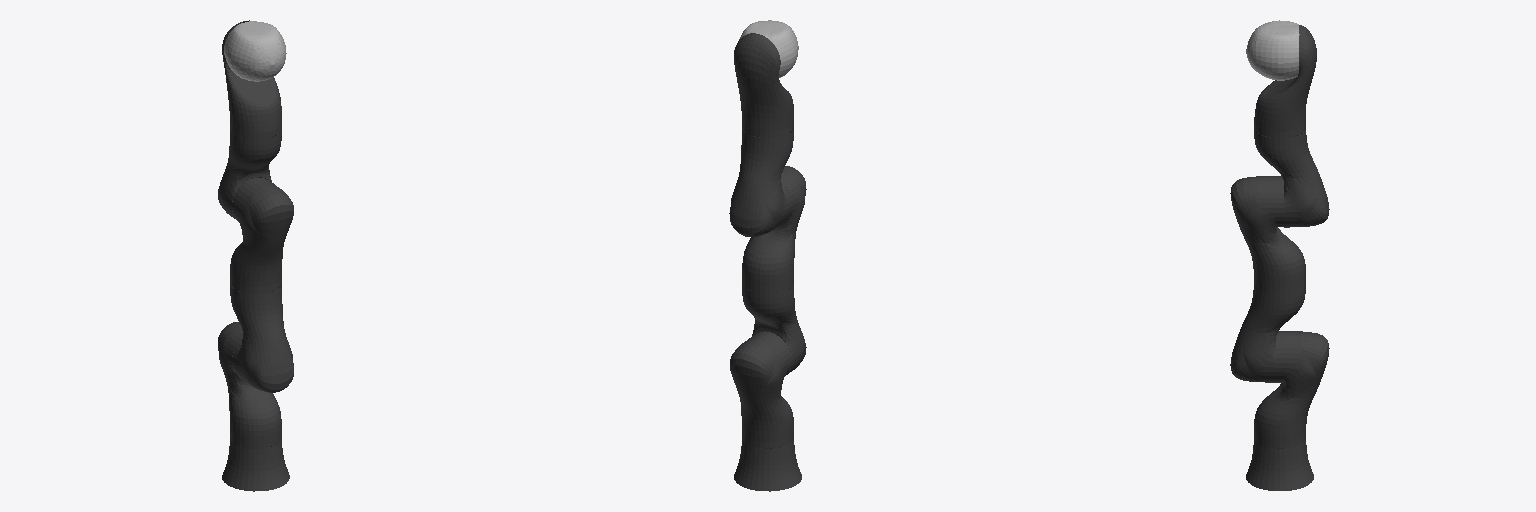
robot.urdf — kuka_lwr_4plus:
<robot name="kuka_lwr_4plus" xmlns:controller="http://playerstage.sourceforge.net/gazebo/xmlschema/#controller" xmlns:interface="http://playerstage.sourceforge.net/gazebo/xmlschema/#interface" xmlns:sensor="http://playerstage.sourceforge.net/gazebo/xmlschema/#sensor" xmlns:xacro="http://www.ros.org/wiki/xacro">
    <material name="DarkGrey">
        <color rgba="0.3 0.3 0.3 1.0" />
    </material>
    <material name="Red">
        <color rgba="0.3 0.3 0.3 1.0" />
    </material>
    <material name="Black">
        <color rgba="0 0 0 1.0" />
    </material>
    <material name="Orange">
        <color rgba="1.0 0.487 0 1.0" />
    </material>
    <material name="Silver">
        <color rgba="1.0 1.0 1.0 1.0" />
    </material>
    <material name="Grey">
        <color rgba="0.7 0.7 0.7 1.0" />
    </material>
    <material name="Blue">
        <color rgba="0.0 0.0 0.8 1.0" />
    </material>
    <material name="HandGray">
        <color rgba="0.953 0.996 0.694 1.0" />
    </material>
    <material name="SickBlue">
        <color rgba="0.3058 0.5921 0.7294 1.0" />
    </material>
    <link name="world" />
    <joint name="arm_world_joint" type="fixed">
        <origin rpy="0 0 0" xyz="0 0 0.01" />
        <parent link="world" />
        <child link="lwr_arm_base_link" />
    </joint>
    <link name="lwr_arm_base_link">
        <inertial>
            <mass value="1.2" />
            <origin rpy="0 0 0" xyz="0 0 0.055" />
            <inertia ixx="0.00229" ixy="0" ixz="0" iyy="0.00216" iyz="0" izz="0.00229" />
        </inertial>
        <visual>
            <origin rpy="0 0 0" xyz="0 0 0" />
            <geometry>
                <mesh filename="model://kuka_lwr_4plus/meshes/arm_base.dae" scale="100 100 100" />
            </geometry>
            <material name="Red" />
        </visual>
        <collision>
            <origin rpy="0 0 0" xyz="0 0 0.01" />
            <geometry>
                <mesh filename="model://kuka_lwr_4plus/meshes/convex/arm_base_convex.stl" scale="0.9 0.9 0.9" />
            </geometry>
        </collision>
    </link>
    <joint name="lwr_arm_0_joint" type="revolute">
        <origin rpy="0 0 0" xyz="0 0 0.11" />
        <axis xyz="0 0 1" />
        <limit effort="204" lower="-2.96705972839" upper="2.96705972839" velocity="1.91986217719" />
        <safety_controller k_position="100" k_velocity="2" soft_lower_limit="-2.93215314335" soft_upper_limit="2.93215314335" />
        <dynamics damping="5.0" friction="15.0"/>
        <parent link="lwr_arm_base_link" />
        <child link="lwr_arm_1_link" />
    </joint>
    <link name="lwr_arm_1_link">
        <inertial>
            <mass value="2.0" />
            <origin rpy="0 0 0" xyz="0 0 0.130" />
            <inertia ixx="0.0136666666667" ixy="0" ixz="0" iyy="0.0118666666667" iyz="0" izz="0.003" />
        </inertial>
        <visual>
            <origin rpy="0 0 3.14159265359" xyz="0 0 0" />
            <geometry>
                <mesh filename="model://kuka_lwr_4plus/meshes/arm_segment_a.dae" scale="100 100 100" />
            </geometry>
            <material name="Red" />
        </visual>
        <collision>
            <origin rpy="0 0 3.14159265359" xyz="0 0 0" />
            <geometry>
                <mesh filename="model://kuka_lwr_4plus/meshes/convex/arm_segment_a_convex.stl" scale="1.0 1.0 1.0" />
            </geometry>
        </collision>
    </link>
    <joint name="lwr_arm_1_joint" type="revolute">
        <origin rpy="0 0 0" xyz="0 0 0.20" />
        <axis xyz="0 -1 0" />
        <limit effort="306" lower="-2.09439510239" upper="2.09439510239" velocity="1.91986217719" />
        <safety_controller k_position="100" k_velocity="2" soft_lower_limit="-2.05948851735" soft_upper_limit="2.05948851735" />
        <dynamics damping="5.0" friction="15.0"/>
        <parent link="lwr_arm_1_link" />
        <child link="lwr_arm_2_link" />
    </joint>
    <link name="lwr_arm_2_link">
        <inertial>
            <mass value="2.0" />
            <origin rpy="0 0 0" xyz="0 -0.06 0.07" />
            <inertia ixx="0.0136666666667" ixy="0" ixz="0" iyy="0.0118666666667" iyz="0" izz="0.003" />
        </inertial>
        <visual>
            <origin rpy="3.14159265359 0 3.14159265359" xyz="0 0 0.2" />
            <geometry>
                <mesh filename="model://kuka_lwr_4plus/meshes/arm_segment_b.dae" scale="100 100 100" />
            </geometry>
            <material name="Red" />
        </visual>
        <collision>
            <origin rpy="3.14159265359 0 3.14159265359" xyz="0 0 0.2" />
            <geometry>
                <mesh filename="model://kuka_lwr_4plus/meshes/convex/arm_segment_b_convex.stl" scale="1.0 1.0 1.0" />
            </geometry>
        </collision>
    </link>
    <joint name="lwr_arm_2_joint" type="revolute">
        <origin rpy="0 0 0" xyz="0 0 0.20" />
        <axis xyz="0 0 1" />
        <limit effort="204" lower="-2.96705972839" upper="2.96705972839" velocity="2.26892802759" />
        <safety_controller k_position="100" k_velocity="2" soft_lower_limit="-2.93215314335" soft_upper_limit="2.93215314335" />
        <dynamics damping="3.0" friction="15.0"/>
        <parent link="lwr_arm_2_link" />
        <child link="lwr_arm_3_link" />
    </joint>
    <link name="lwr_arm_3_link">
        <inertial>
            <mass value="2.0" />
            <origin rpy="0 0 0" xyz="0 -0.06 0.130" />
            <inertia ixx="0.0136666666667" ixy="0" ixz="0" iyy="0.0118666666667" iyz="0" izz="0.003" />
        </inertial>
        <visual>
            <origin rpy="0 0 0" xyz="0 0 0" />
            <geometry>
                <mesh filename="model://kuka_lwr_4plus/meshes/arm_segment_a.dae" scale="100 100 100" />
            </geometry>
            <material name="Red" />
        </visual>
        <collision>
            <origin rpy="0 0 0" xyz="0 0 0" />
            <geometry>
                <mesh filename="model://kuka_lwr_4plus/meshes/convex/arm_segment_a_convex.stl" scale="1.0 1.0 1.0" />
            </geometry>
        </collision>
    </link>
    <joint name="lwr_arm_3_joint" type="revolute">
        <origin rpy="0 0 0" xyz="0 0 0.20" />
        <axis xyz="0 1 0" />
        <limit effort="306" lower="-2.09439510239" upper="2.09439510239" velocity="2.26892802759" />
        <safety_controller k_position="100" k_velocity="2" soft_lower_limit="-2.05948851735" soft_upper_limit="2.05948851735" />
        <dynamics damping="3.0" friction="15.0"/>
        <parent link="lwr_arm_3_link" />
        <child link="lwr_arm_4_link" />
    </joint>
    <link name="lwr_arm_4_link">
        <inertial>
            <mass value="2.0" />
            <origin rpy="0 0 0" xyz="0 0.06 0.07" />
            <inertia ixx="0.0136666666667" ixy="0" ixz="0" iyy="0.0118666666667" iyz="0" izz="0.003" />
        </inertial>
        <visual>
            <origin rpy="0 3.14159265359 3.14159265359" xyz="0 0 0.2" />
            <geometry>
                <mesh filename="model://kuka_lwr_4plus/meshes/arm_segment_b.dae" scale="100 100 100" />
            </geometry>
            <material name="Red" />
        </visual>
        <collision>
            <origin rpy="0 3.14159265359 3.14159265359" xyz="0 0 0.2" />
            <geometry>
                <mesh filename="model://kuka_lwr_4plus/meshes/convex/arm_segment_b_convex.stl" scale="1.0 1.0 1.0" />
            </geometry>
        </collision>
    </link>
    <joint name="lwr_arm_4_joint" type="revolute">
        <origin rpy="0 0 0" xyz="0 0 0.20" />
        <axis xyz="0 0 1" />
        <limit effort="204" lower="-2.96705972839" upper="2.96705972839" velocity="2.26892802759" />
        <safety_controller k_position="100" k_velocity="2" soft_lower_limit="-2.93215314335" soft_upper_limit="2.93215314335" />
        <dynamics damping="1.0" friction="15.0"/>
        <parent link="lwr_arm_4_link" />
        <child link="lwr_arm_5_link" />
    </joint>
    <link name="lwr_arm_5_link">
        <inertial>
            <mass value="2.0" />
            <origin rpy="0 0 0" xyz="0 0 0.124" />
            <inertia ixx="0.0126506666667" ixy="0" ixz="0" iyy="0.0108506666667" iyz="0" izz="0.003" />
        </inertial>
        <visual>
            <origin rpy="0 0 3.14159265359" xyz="0 0 0" />
            <geometry name="lwr_arm_5_geom">
                <mesh filename="model://kuka_lwr_4plus/meshes/arm_segment_last.dae" scale="100 100 100" />
            </geometry>
            <material name="Red" />
        </visual>
        <collision>
            <origin rpy="0 0 3.14159265359" xyz="0 0 0" />
            <geometry>
                <mesh filename="model://kuka_lwr_4plus/meshes/convex/arm_segment_last_convex.stl" scale="1.0 1.0 1.0" />
            </geometry>
        </collision>
    </link>
    <joint name="lwr_arm_5_joint" type="revolute">
        <origin rpy="0 0 0" xyz="0 0 0.19" />
        <axis xyz="0 -1 0" />
        <limit effort="306" lower="-2.09439510239" upper="2.09439510239" velocity="3.14159265359" />
        <safety_controller k_position="100" k_velocity="2" soft_lower_limit="-2.05948851735" soft_upper_limit="2.05948851735" />
        <dynamics damping="1.0" friction="15.0"/>
        <parent link="lwr_arm_5_link" />
        <child link="lwr_arm_6_link" />
    </joint>
    <link name="lwr_arm_6_link">
        <inertial>
            <mass value="1.0" />
            <origin rpy="0 0 0" xyz="0 0 0.0" />
            <inertia ixx="0.00260416666667" ixy="0" ixz="0" iyy="0.00260416666667" iyz="0" izz="0.00260416666667" />
        </inertial>
        <visual>
            <origin rpy="0 0 3.14159265359" xyz="0 0 0" />
            <geometry>
                <mesh filename="model://kuka_lwr_4plus/meshes/arm_wrist.dae" scale="100 100 100" />
            </geometry>
            <material name="Grey" />
        </visual>
        <collision>
            <origin rpy="0 0 3.14159265359" xyz="0 0 0" />
            <geometry>
                <mesh filename="model://kuka_lwr_4plus/meshes/convex/arm_wrist_convex.stl" scale="1.0 1.0 1.0" />
            </geometry>
        </collision>
    </link>
    <origin xyz="0 0 0" rpy="0 0 0" />
</robot>

--- Render facts (derived) ---
Views: 3 orthographic renders of the robot side by side, from view 1: azimuth 30°, elevation 25°; view 2: azimuth 150°, elevation 25°; view 3: azimuth 270°, elevation 25°.
Model kuka_lwr_4plus with 8 links and 7 joints (6 revolute, 1 fixed), rooted at world, posed all joints at 0.
Visible links, largest first — view 1: lwr_arm_3_link, lwr_arm_2_link, lwr_arm_1_link, lwr_arm_6_link, lwr_arm_base_link, lwr_arm_4_link, lwr_arm_5_link; view 2: lwr_arm_1_link, lwr_arm_4_link, lwr_arm_5_link, lwr_arm_3_link, lwr_arm_base_link, lwr_arm_2_link, lwr_arm_6_link; view 3: lwr_arm_1_link, lwr_arm_3_link, lwr_arm_2_link, lwr_arm_4_link, lwr_arm_5_link, lwr_arm_base_link, lwr_arm_6_link.
Link boxes in pixels (<box>): lwr_arm_3_link: <box>230,177,293,287</box>; lwr_arm_2_link: <box>230,278,293,392</box>; lwr_arm_1_link: <box>218,322,281,441</box>; lwr_arm_6_link: <box>224,21,286,81</box>; lwr_arm_base_link: <box>222,433,289,491</box>; lwr_arm_4_link: <box>218,123,281,221</box>; lwr_arm_5_link: <box>222,20,281,132</box>; lwr_arm_1_link: <box>730,332,793,441</box>; lwr_arm_4_link: <box>729,122,793,236</box>; lwr_arm_5_link: <box>734,33,793,131</box>; lwr_arm_3_link: <box>742,166,806,286</box>; lwr_arm_base_link: <box>734,433,801,491</box>; lwr_arm_2_link: <box>742,278,806,374</box>; lwr_arm_6_link: <box>739,20,798,77</box>; lwr_arm_1_link: <box>1254,331,1329,441</box>; lwr_arm_3_link: <box>1230,176,1305,286</box>; lwr_arm_2_link: <box>1230,278,1305,382</box>; lwr_arm_4_link: <box>1254,123,1329,227</box>; lwr_arm_5_link: <box>1254,25,1316,131</box>; lwr_arm_base_link: <box>1246,433,1313,490</box>; lwr_arm_6_link: <box>1246,20,1299,80</box>.
Bounding box of the posed robot: 0.1601 × 0.2319 × 1.16 m (x, y, z).
7 mesh visuals loaded from 5 distinct referenced files (5 Collada DAE).